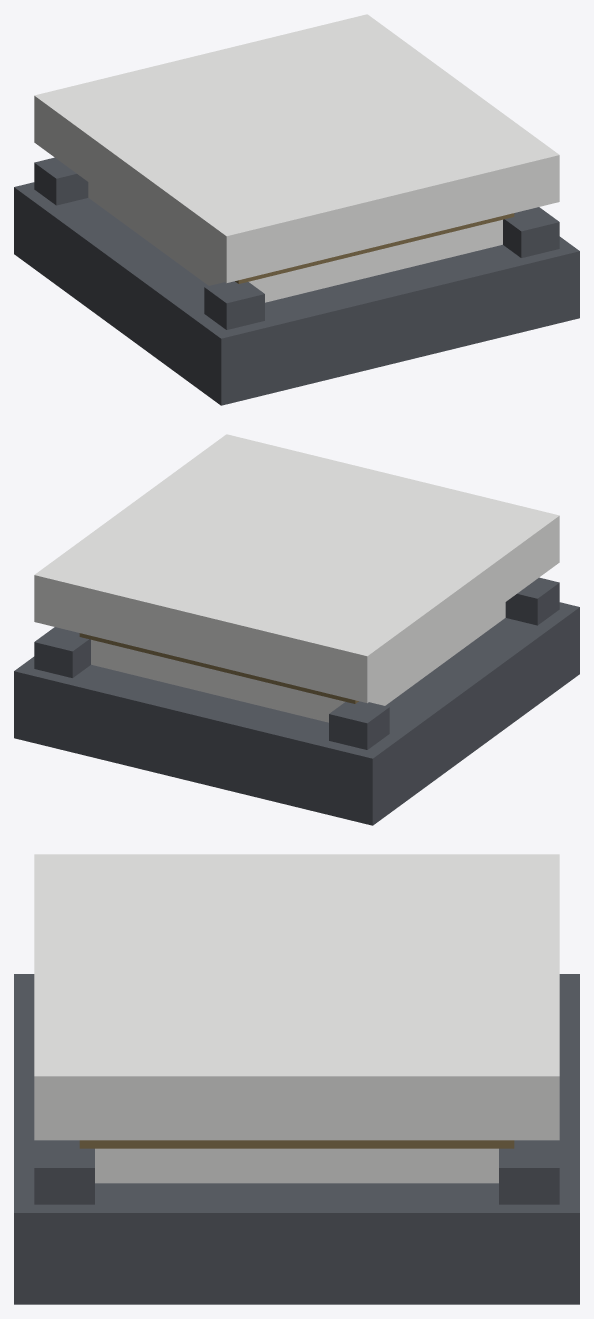
The model's file is Pedestal_S.fbx.
3 renders of one model, top to bottom at view 1: azimuth 30°, elevation 25°; view 2: azimuth 150°, elevation 25°; view 3: azimuth 270°, elevation 25°, orthographic. The views are drawn at different scales.
Visible parts, largest first — view 1: SM_Pedestal_S; view 2: SM_Pedestal_S; view 3: SM_Pedestal_S.
Part boxes in pixels (<box>): SM_Pedestal_S: <box>14,14,579,405</box>; SM_Pedestal_S: <box>14,434,579,825</box>; SM_Pedestal_S: <box>14,854,579,1304</box>.
Size of the model in its own units: 2.8 by 1.2 by 2.8.
